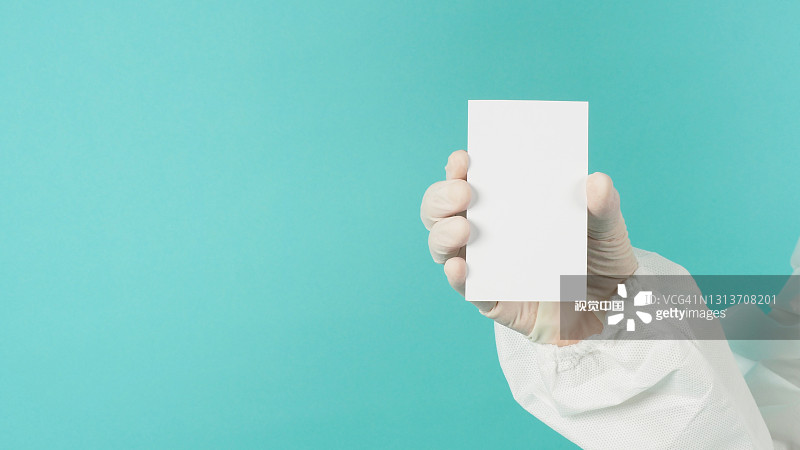no-phone: (396, 133, 667, 348)
